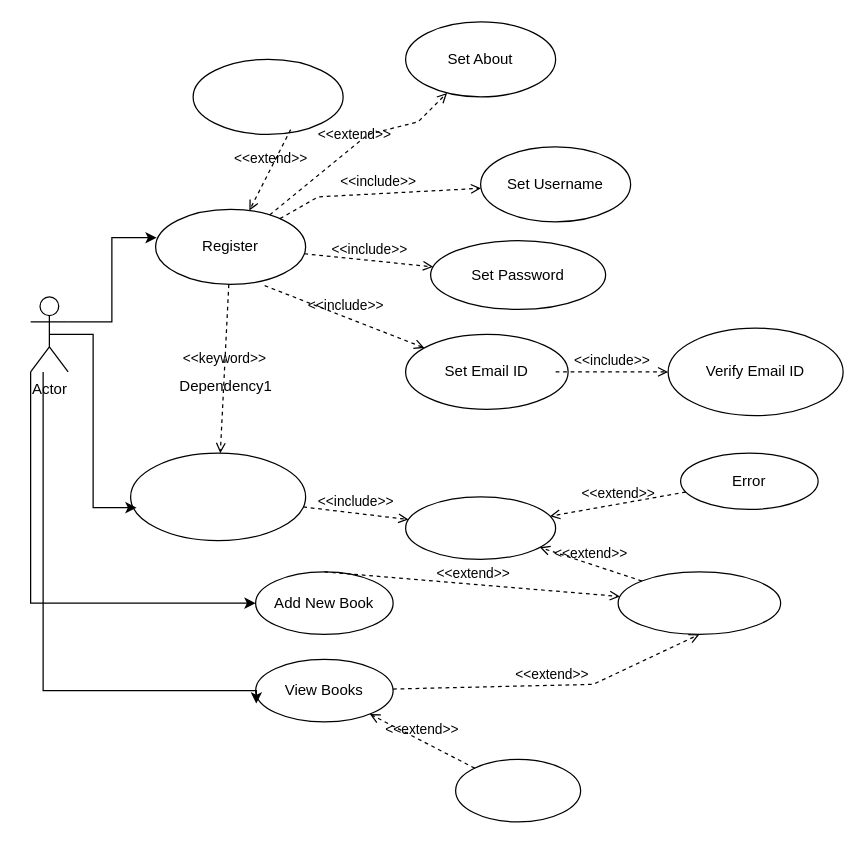
Some shapes in this 865 by 844 pixel diagram are drawn without their labels. The shapes that lost their labels are listed below. From the top down, each one's box as (x1, y1, x2, y2) in pixels, then its label:
(192, 58, 343, 134): Set Genre Interests
(129, 452, 306, 541): Login {Precondition: User must be registered}
(404, 496, 556, 559): Authentication
(617, 571, 781, 634): Success
(454, 758, 581, 822): Edit Book Notes
